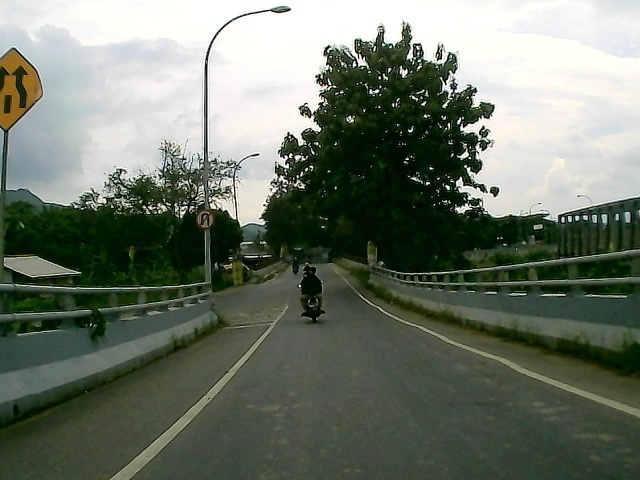Dilarang berbalik arah: (193, 207, 216, 231)
